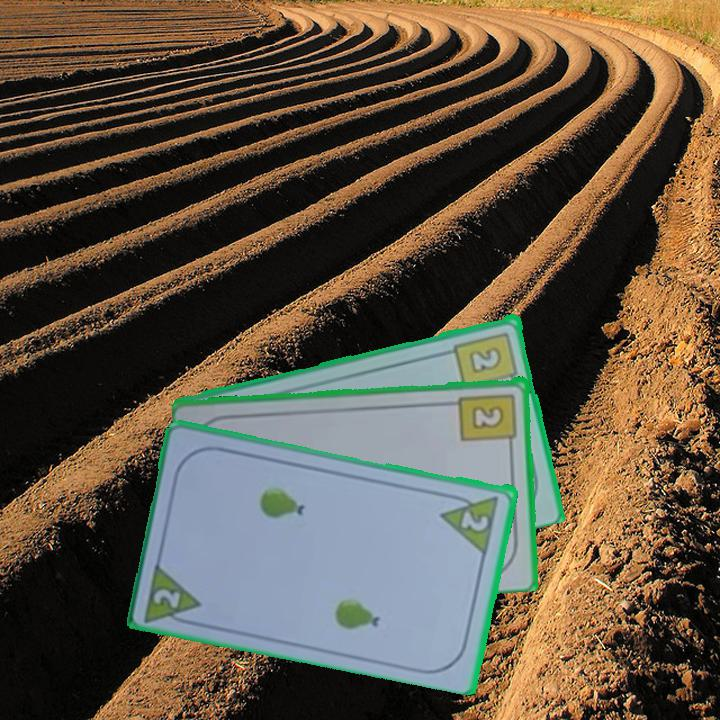2b: (451, 327, 521, 390), (456, 389, 520, 451)
2p: (438, 489, 502, 555), (149, 584, 184, 611)
